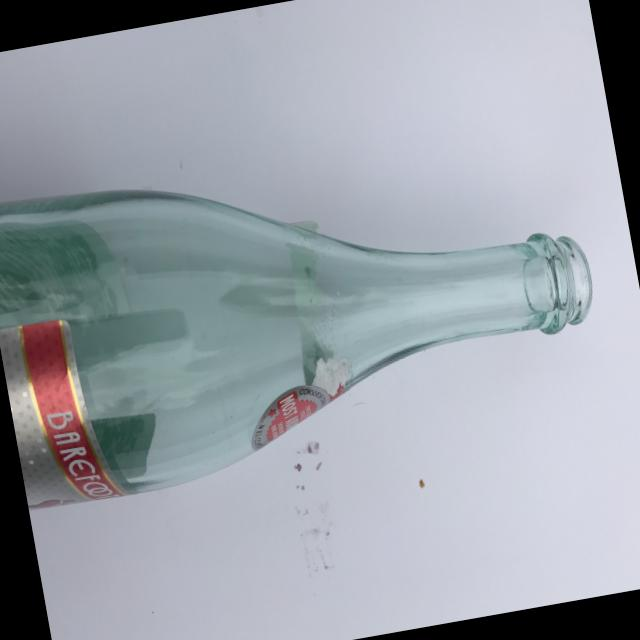Glass: (0, 80, 629, 524)
